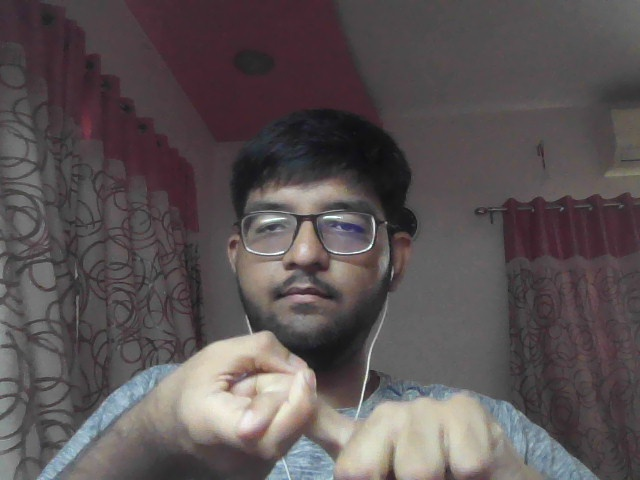મિત્ર: (97, 324, 545, 480)
